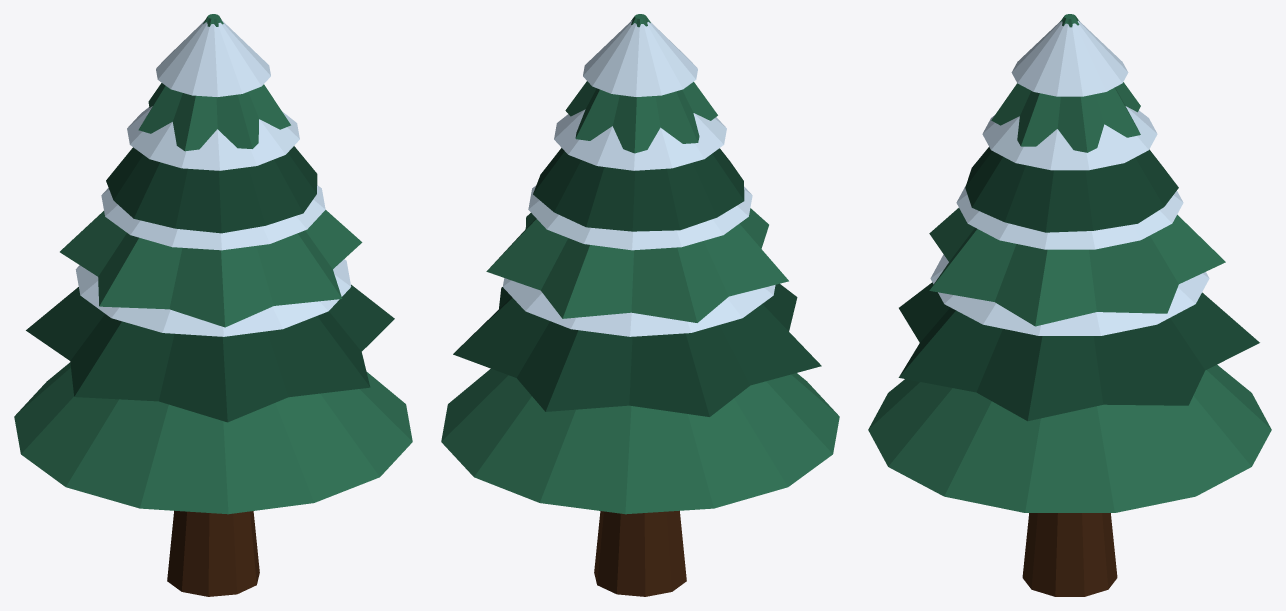
Rendered from pine_tree.glb.
The picture shows the model from 3 angles, left to right: view 1: azimuth 30°, elevation 25°; view 2: azimuth 150°, elevation 25°; view 3: azimuth 270°, elevation 25°; orthographic projection.
Parts seen in each view (by area): view 1: pine_tree; view 2: pine_tree; view 3: pine_tree.
Boxes of the visible parts, x1=… form: pine_tree: x1=14, y1=14, x2=412, y2=596; pine_tree: x1=441, y1=14, x2=839, y2=596; pine_tree: x1=868, y1=14, x2=1271, y2=596.
Size of the model in its own units: 1.99 by 3.13 by 2.04.
